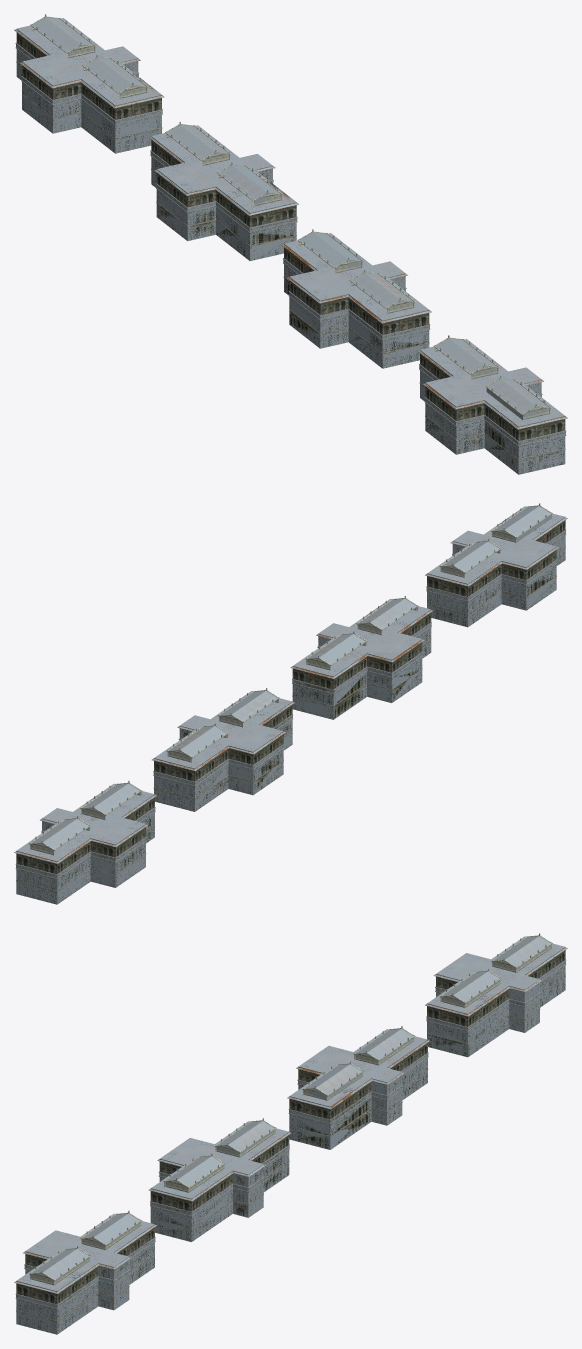
Rendered from garrison.fbx.
3 views of the same model, one above another, from view 1: azimuth 30°, elevation 25°; view 2: azimuth 150°, elevation 25°; view 3: azimuth 330°, elevation 25° (orthographic). The views are drawn at different scales.
Parts seen in each view (by area): view 1: Model, Group82, Group36, Group48, Group59, Group71, Group2, Group25, Group13; view 2: Model, Group2, Group48, Group82, Group25, Group36, Group59, Group71, Group13; view 3: Model, Group82, Group25, Group48, Group2, Group36, Group13, Group71, Group59.
Boxes of the visible parts, <box> form: Model: <box>14,18,567,474</box>; Group82: <box>82,57,148,98</box>; Group36: <box>349,272,415,314</box>; Group48: <box>165,124,231,165</box>; Group59: <box>216,164,282,206</box>; Group71: <box>30,16,96,58</box>; Group2: <box>434,337,499,379</box>; Group25: <box>298,231,363,273</box>; Group13: <box>485,378,551,420</box>; Model: <box>14,506,567,904</box>; Group2: <box>439,540,501,577</box>; Group48: <box>167,725,228,762</box>; Group82: <box>80,782,142,819</box>; Group25: <box>305,633,366,670</box>; Group36: <box>356,598,418,635</box>; Group59: <box>218,690,279,727</box>; Group71: <box>29,818,90,855</box>; Group13: <box>491,505,552,542</box>; Model: <box>14,936,567,1334</box>; Group82: <box>439,970,501,1008</box>; Group25: <box>215,1120,276,1157</box>; Group48: <box>353,1028,414,1065</box>; Group2: <box>80,1212,142,1250</box>; Group36: <box>163,1155,225,1192</box>; Group13: <box>29,1248,90,1285</box>; Group71: <box>491,935,552,972</box>; Group59: <box>302,1063,363,1100</box>.
Bounding box in the file's own units: 43850 × 20922 × 331638.
